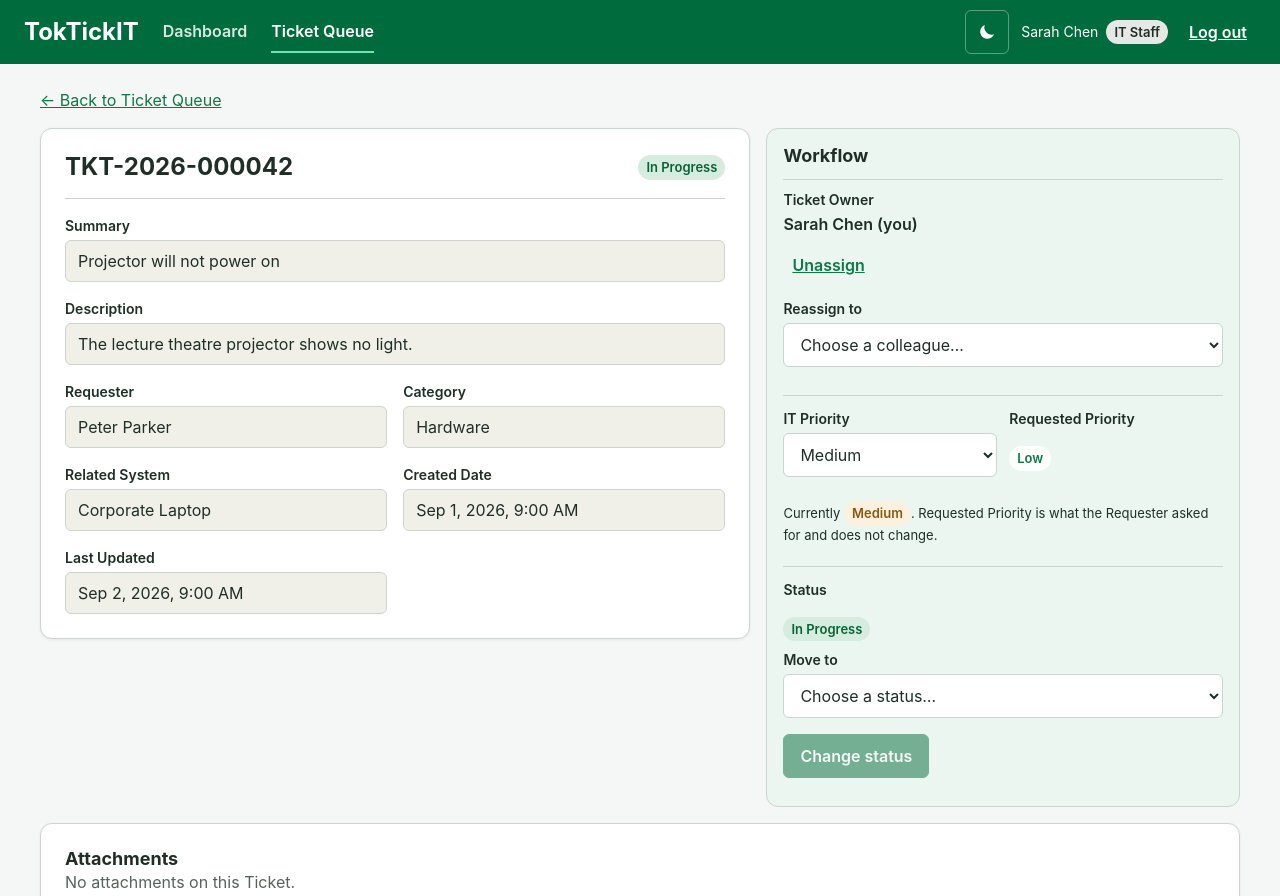
UI-13 a successful change (BR-16, AC-28) › sends the version with a status change, then shows the new status in the summary and announces it
The width and height of the screenshot is (1280, 896).
expect the heading "TKT-2026-000042" is shown: met, box [65,153,293,182]
expect the text "In Progress" in the row of "TKT-2026-000042" is shown: met, box [646,159,717,175]
Select "Resolved" in the dropdown labelled "Move to" at (1003, 696), box [783,674,1223,718]
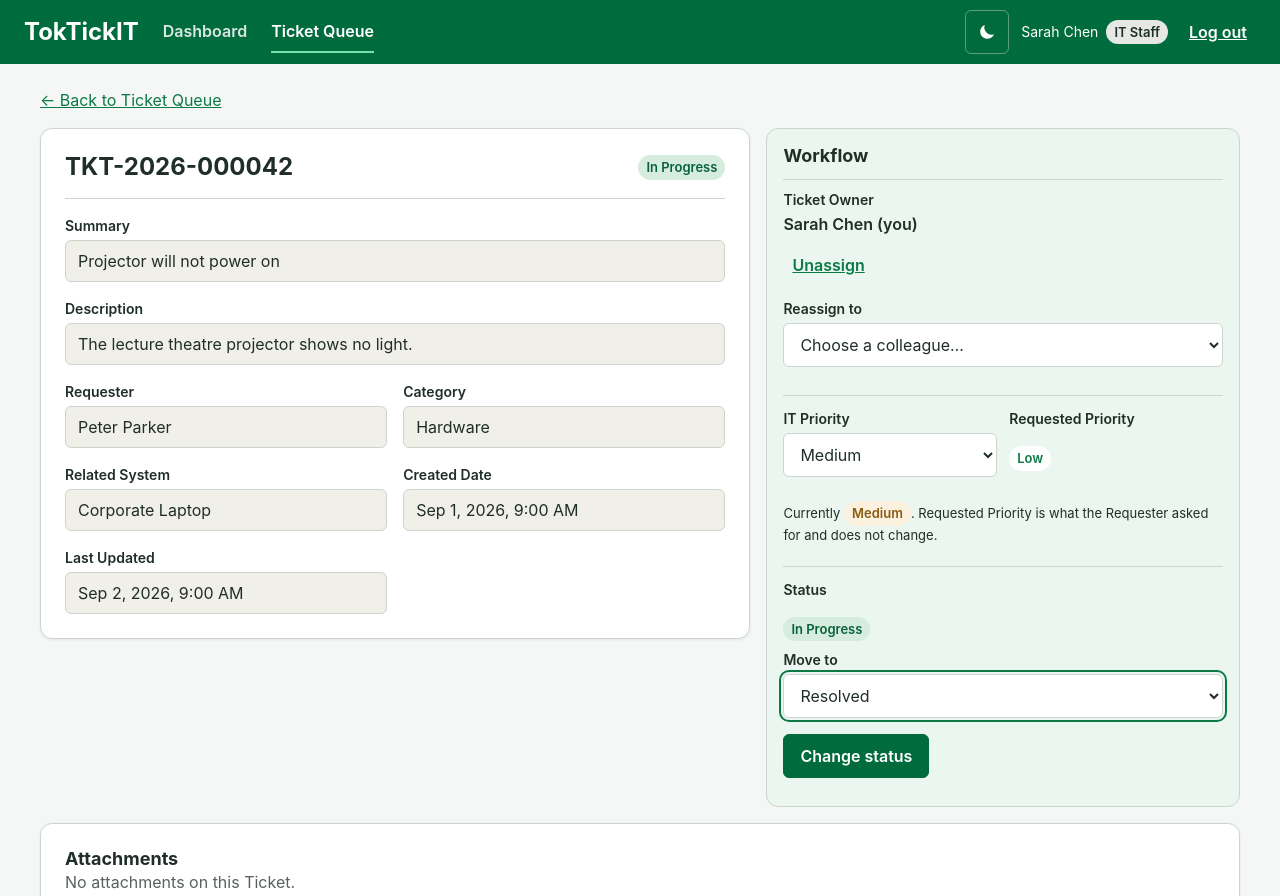
Click the button "Change status" at (856, 756), box [783,734,929,778]
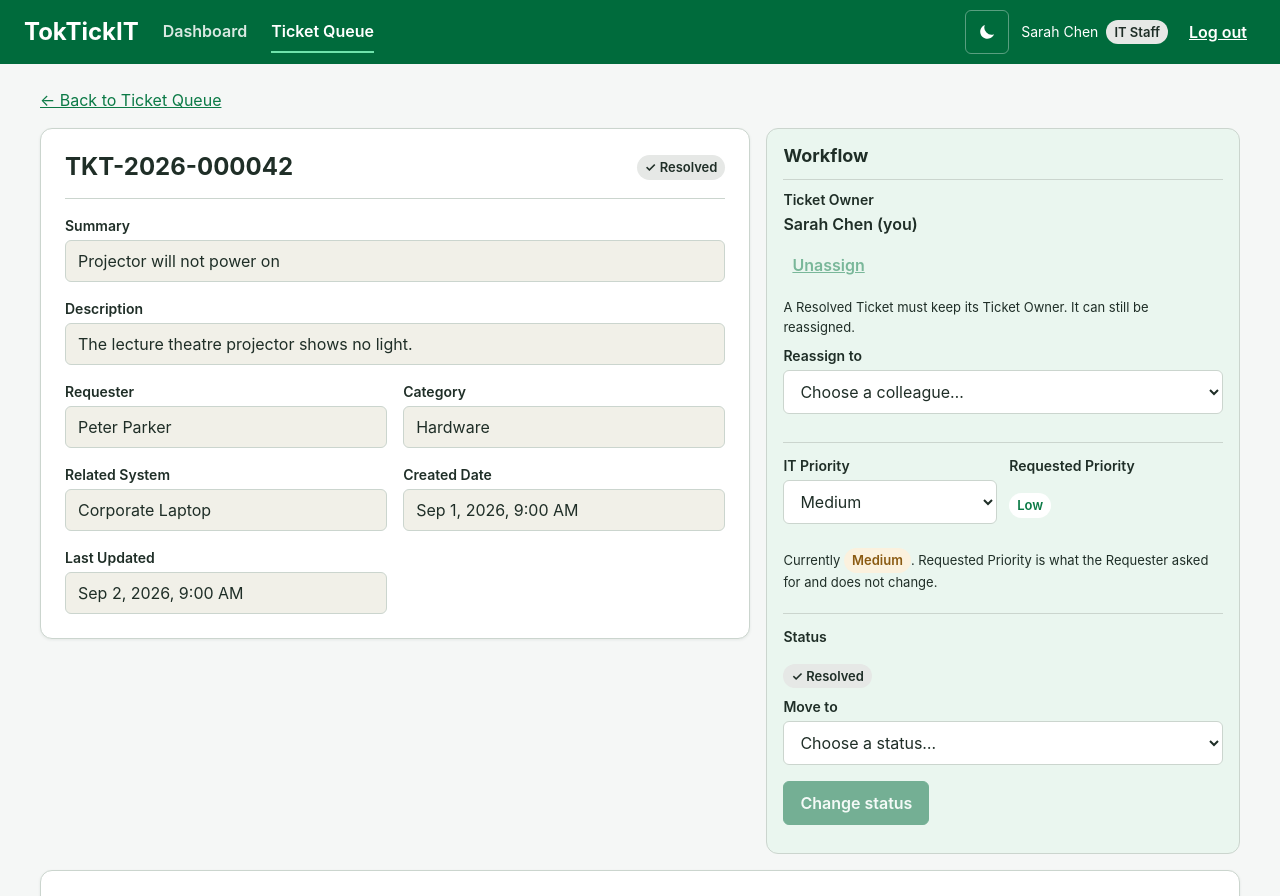
expect the text "Resolved" in the row of "TKT-2026-000042" is shown: met, box [660,159,717,175]
expect the text "In Progress" is gone: met
